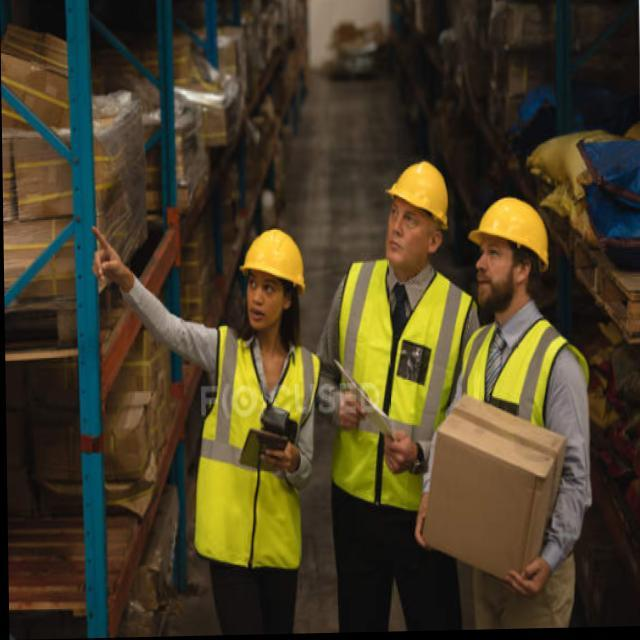helmet: (466, 191, 549, 316), (380, 154, 451, 277), (234, 225, 309, 336)
vest: (327, 254, 479, 525), (188, 321, 326, 581), (457, 318, 596, 554)
